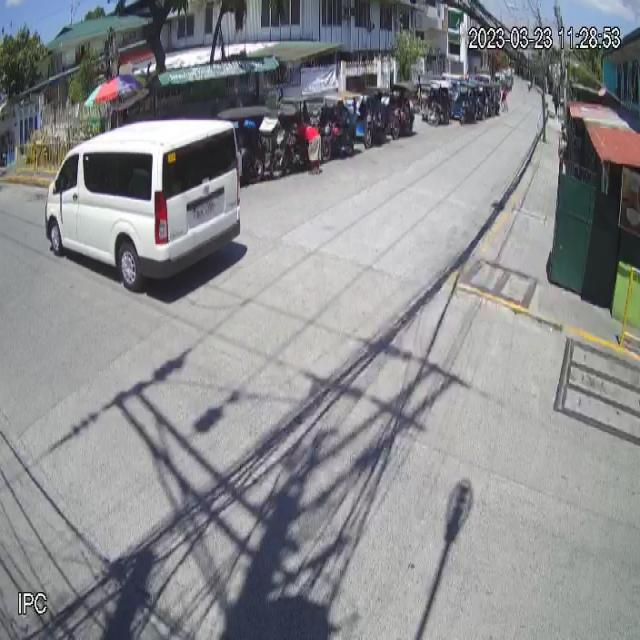Van: (43, 116, 243, 290)
